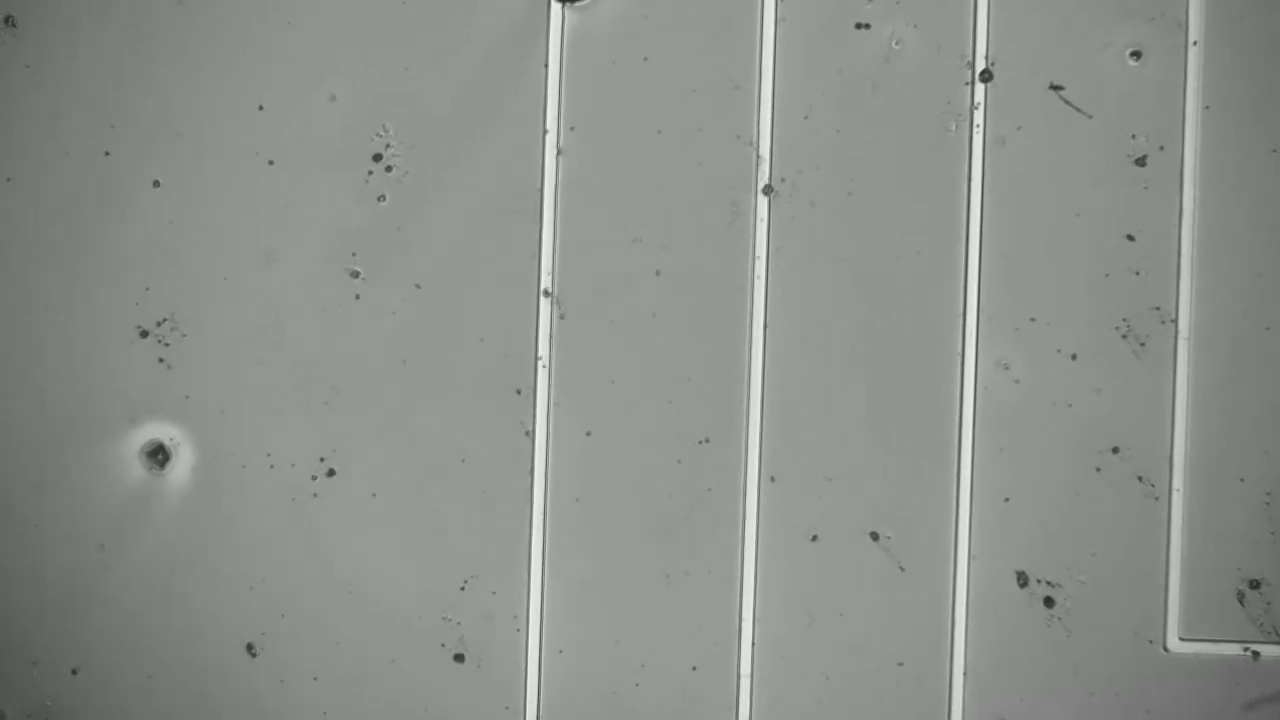stains_enbedded: (962, 61, 1004, 95), (1244, 639, 1269, 667), (753, 178, 779, 203)
